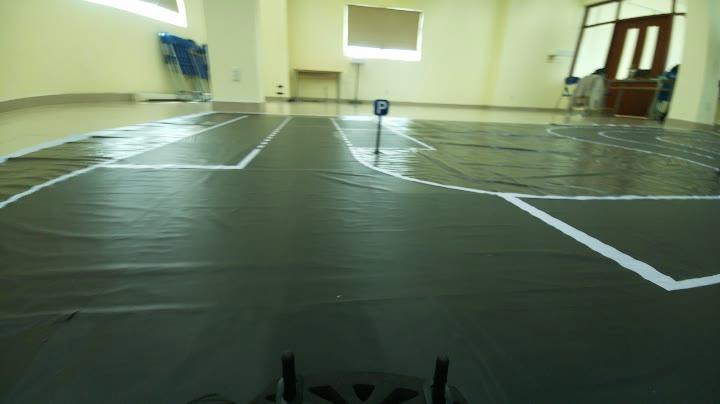parking: (368, 95, 397, 121)
